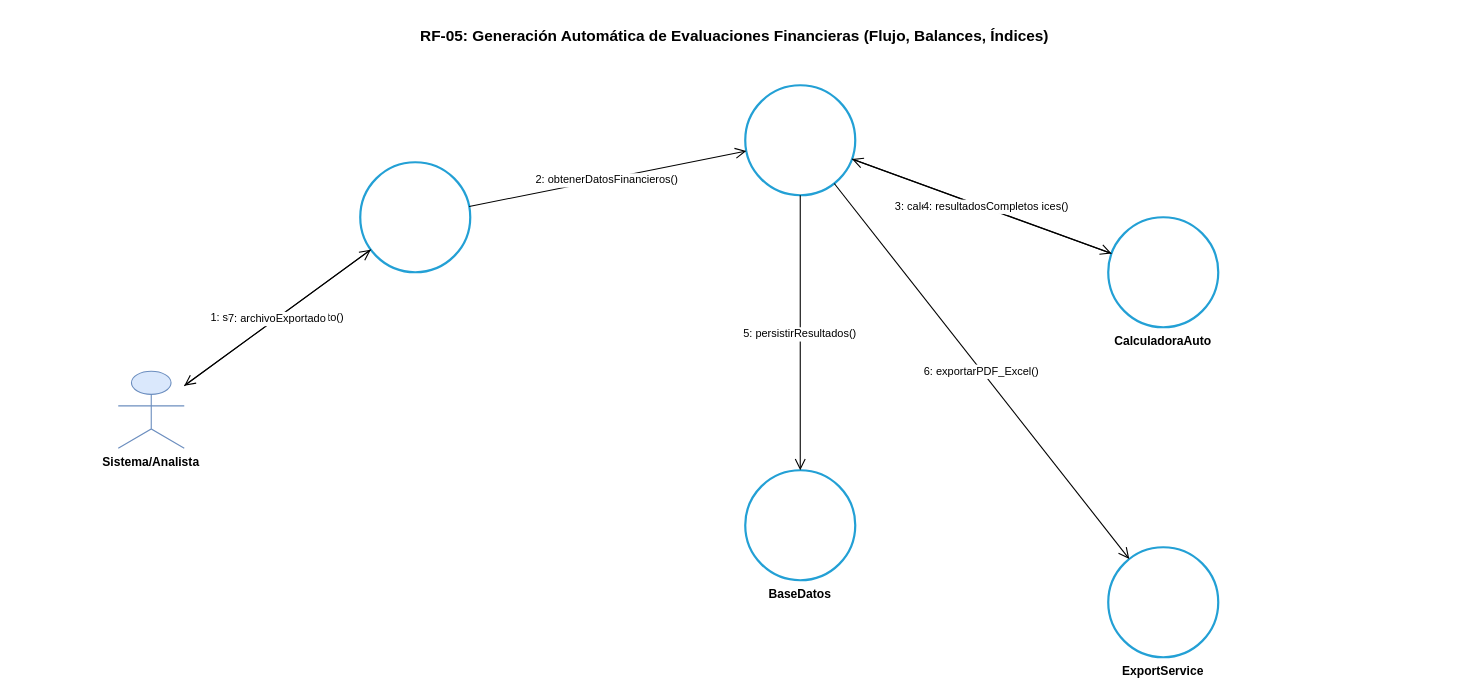
This 1467x697 diagram has some shape labels left out. Each missing label, with the box of its shape:
FinController: (359, 161, 471, 273)
FinService: (744, 84, 856, 196)
